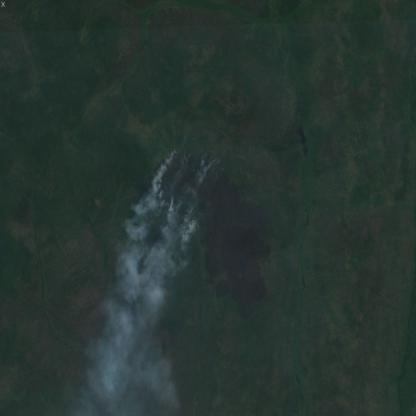fire: (146, 148, 179, 207), (170, 198, 204, 238), (190, 148, 221, 182)
